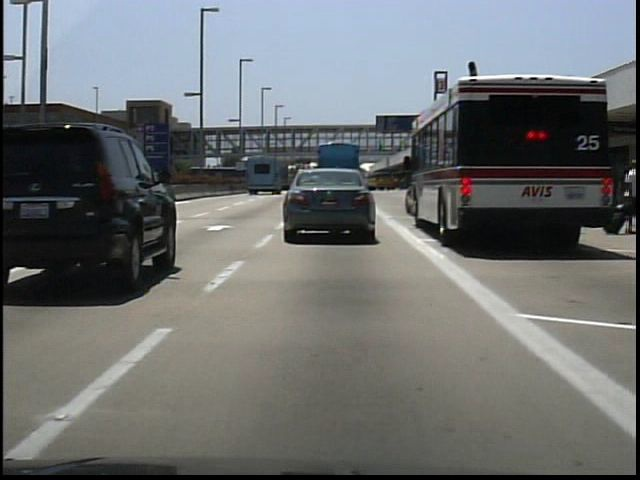person: (616, 151, 640, 239), (400, 136, 414, 158), (375, 137, 388, 157)
